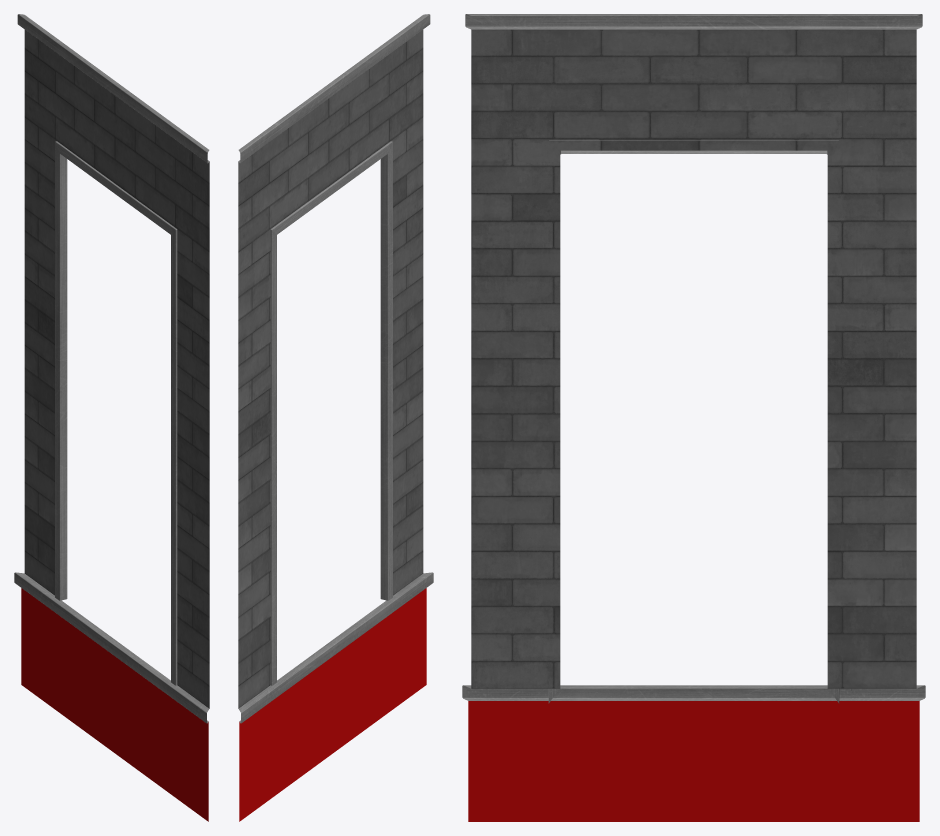
The model's file is SM_Base_150_Door.fbx.
3 views of the same model, side by side, from view 1: azimuth 30°, elevation 25°; view 2: azimuth 150°, elevation 25°; view 3: azimuth 270°, elevation 25° (orthographic). The views are drawn at different scales.
Parts seen in each view (by area): view 1: SM_Base_150_Door_LOD0; view 2: SM_Base_150_Door_LOD0; view 3: SM_Base_150_Door_LOD0.
Boxes of the visible parts, bbox=[...] form: SM_Base_150_Door_LOD0: bbox=[14, 14, 209, 821]; SM_Base_150_Door_LOD0: bbox=[238, 14, 433, 821]; SM_Base_150_Door_LOD0: bbox=[462, 14, 925, 821].
Bounding box in the file's own units: 5.73 × 156 × 300.
